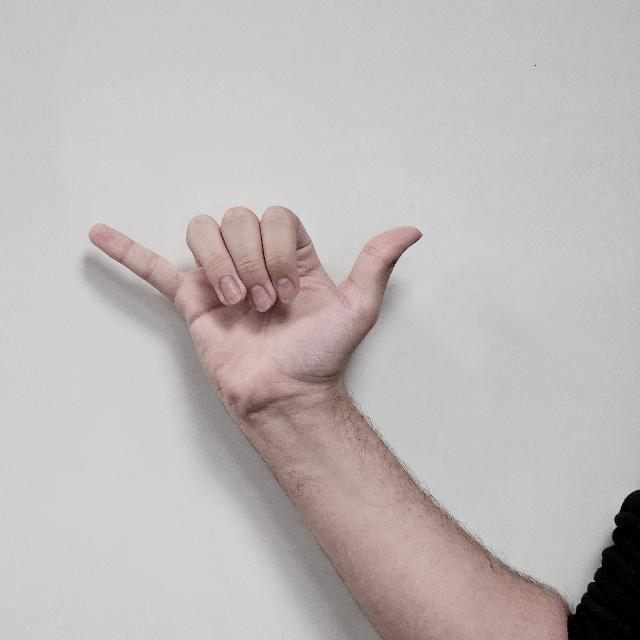Direita: (77, 190, 419, 436)
